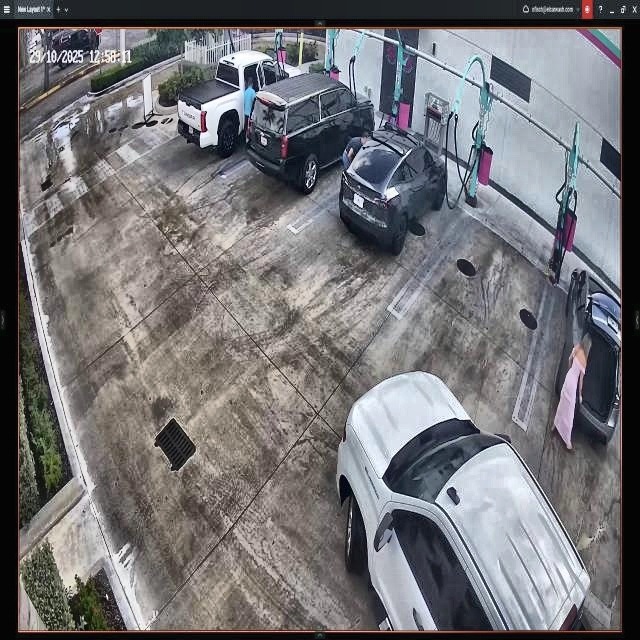Car: (338, 359, 594, 630), (248, 78, 375, 190), (341, 128, 447, 256), (174, 56, 303, 154)
